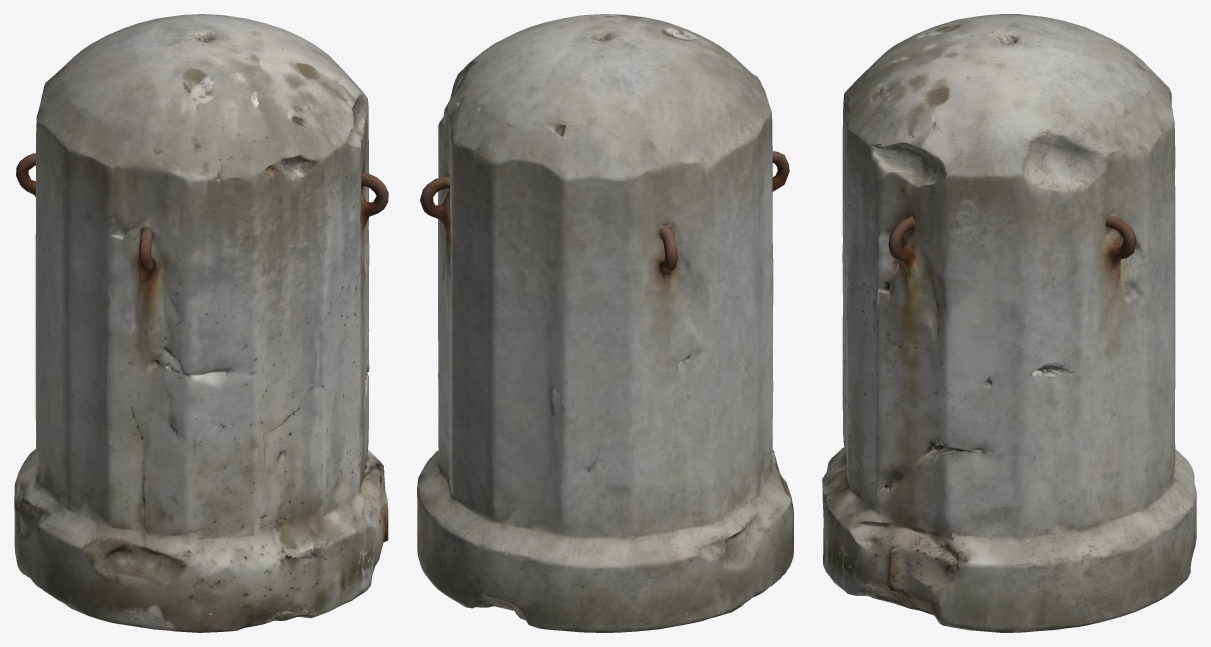
Rendered from bollard.glb.
The picture shows the model from 3 angles, left to right: view 1: azimuth 30°, elevation 25°; view 2: azimuth 150°, elevation 25°; view 3: azimuth 270°, elevation 25°; orthographic projection.
Visible parts, largest first — view 1: tripo_node_90ede47d-a3af-4908-9aa7-ed4b06b1f256; view 2: tripo_node_90ede47d-a3af-4908-9aa7-ed4b06b1f256; view 3: tripo_node_90ede47d-a3af-4908-9aa7-ed4b06b1f256.
Part boxes in pixels (left/top/right/bottom): tripo_node_90ede47d-a3af-4908-9aa7-ed4b06b1f256: left=14, top=14, right=388, bottom=632; tripo_node_90ede47d-a3af-4908-9aa7-ed4b06b1f256: left=417, top=14, right=793, bottom=632; tripo_node_90ede47d-a3af-4908-9aa7-ed4b06b1f256: left=822, top=14, right=1196, bottom=632.
Size of the model in its own units: 0.6587 by 1 by 0.6532.
Materials: 1 (1 with a texture image).
